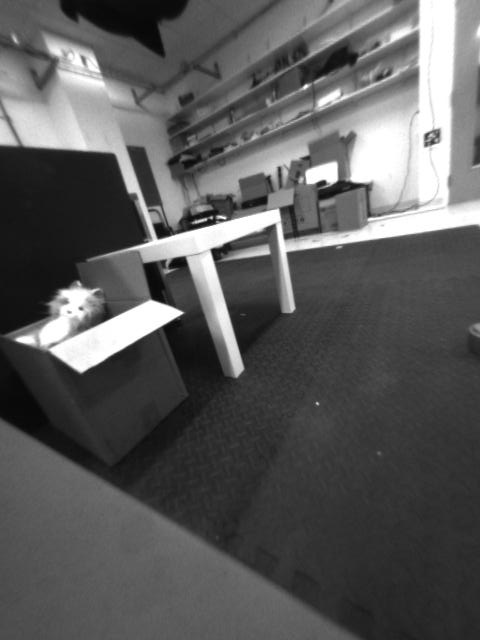dogtoy: (461, 312, 480, 364)
